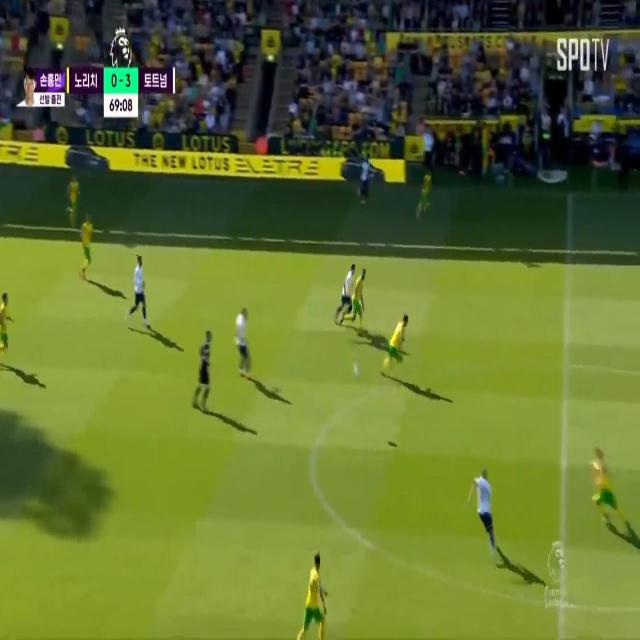ball: (349, 358, 364, 384)
player: (591, 446, 619, 530), (302, 548, 326, 640), (332, 263, 358, 325), (471, 474, 493, 541), (132, 257, 148, 331), (390, 313, 409, 371), (236, 310, 250, 378), (77, 218, 93, 276), (0, 288, 13, 358)
